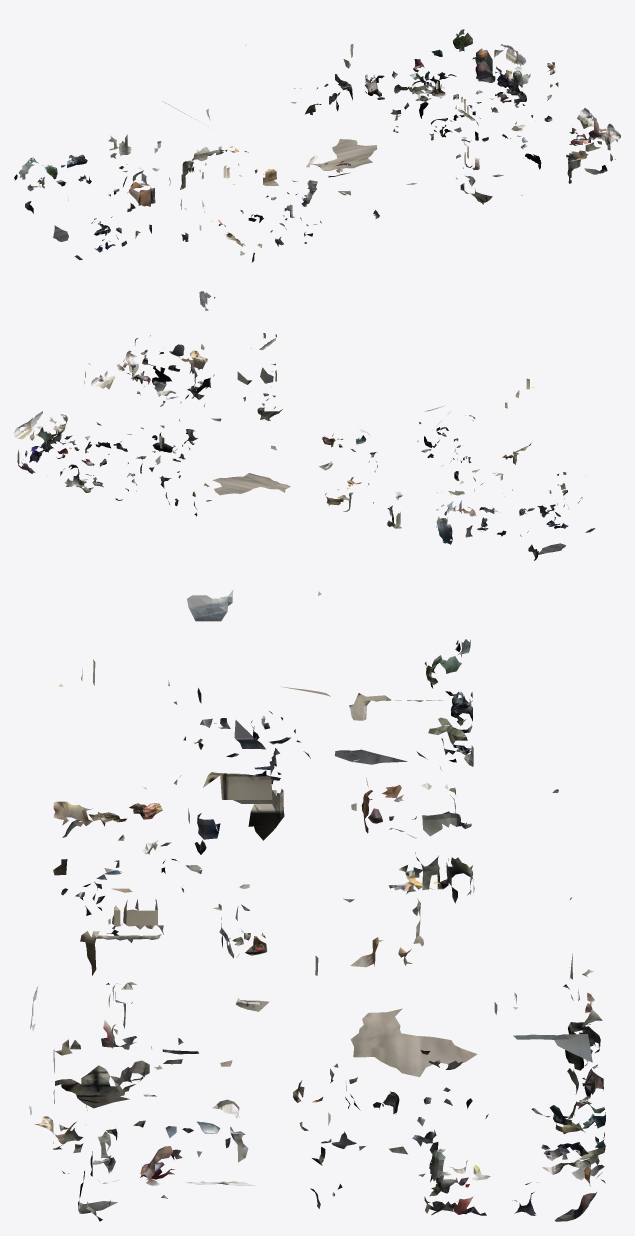
The picture shows the model from 3 angles, top to bottom: view 1: azimuth 30°, elevation 25°; view 2: azimuth 150°, elevation 25°; view 3: azimuth 270°, elevation 25°; orthographic projection. The views are drawn at different scales.
Parts seen in each view (by area): view 1: Mesh_9; view 2: Mesh_9; view 3: Mesh_9.
Boxes of the visible parts, x1,y1,x2,y2 form: Mesh_9: [14, 29, 620, 262]; Mesh_9: [14, 291, 595, 560]; Mesh_9: [29, 589, 605, 1221].
Size of the model in its own units: 15.05 by 2.76 by 7.25.
1 material, 1 textured.
